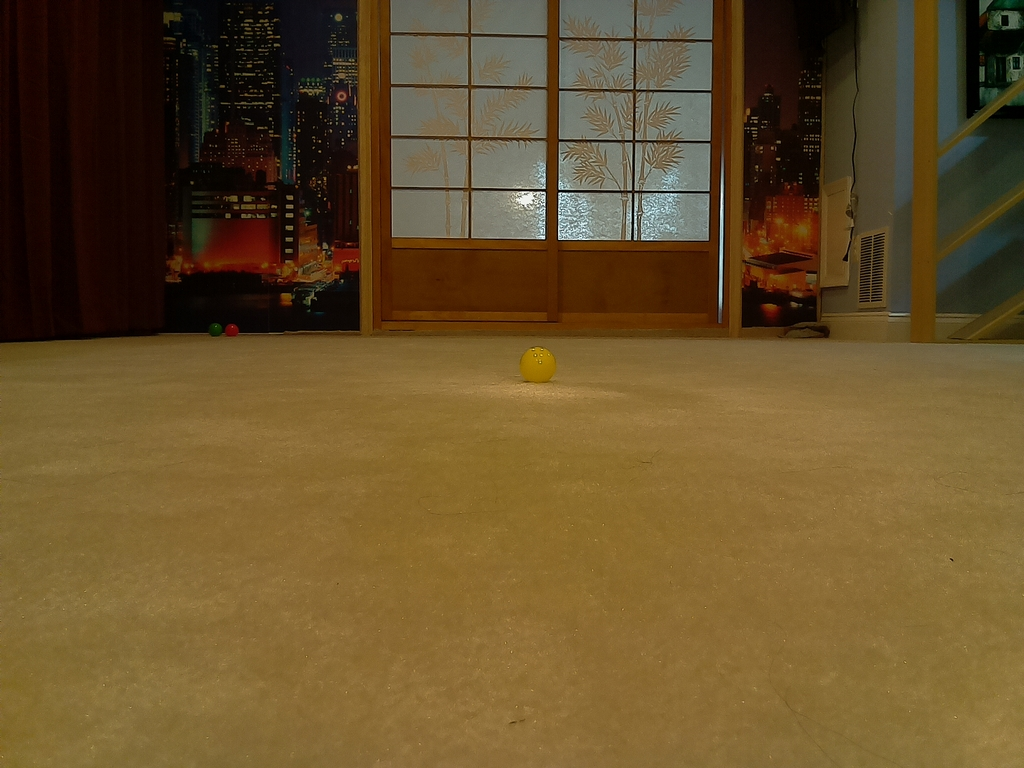ball: (521, 349, 557, 383)
